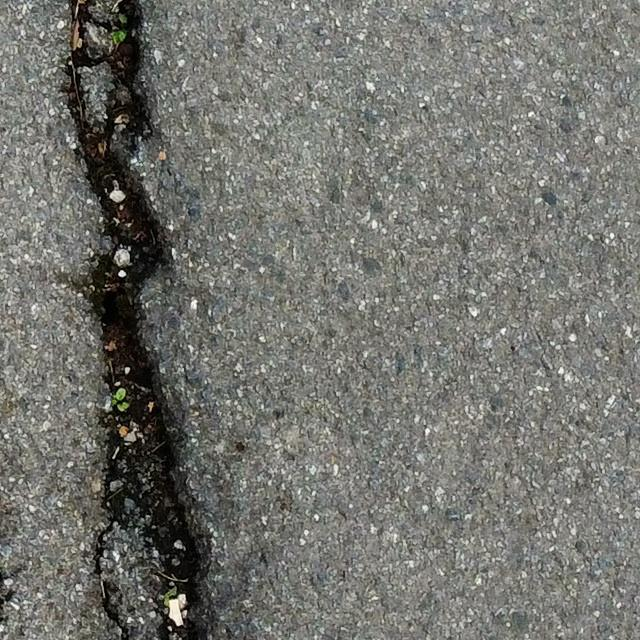LongitudinalCrack: (60, 1, 212, 639)
